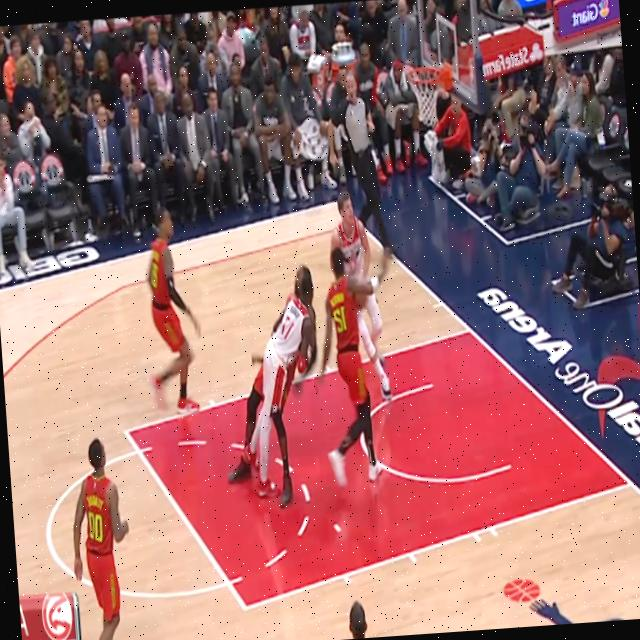Foul: (268, 284, 351, 538), (274, 208, 326, 214)
